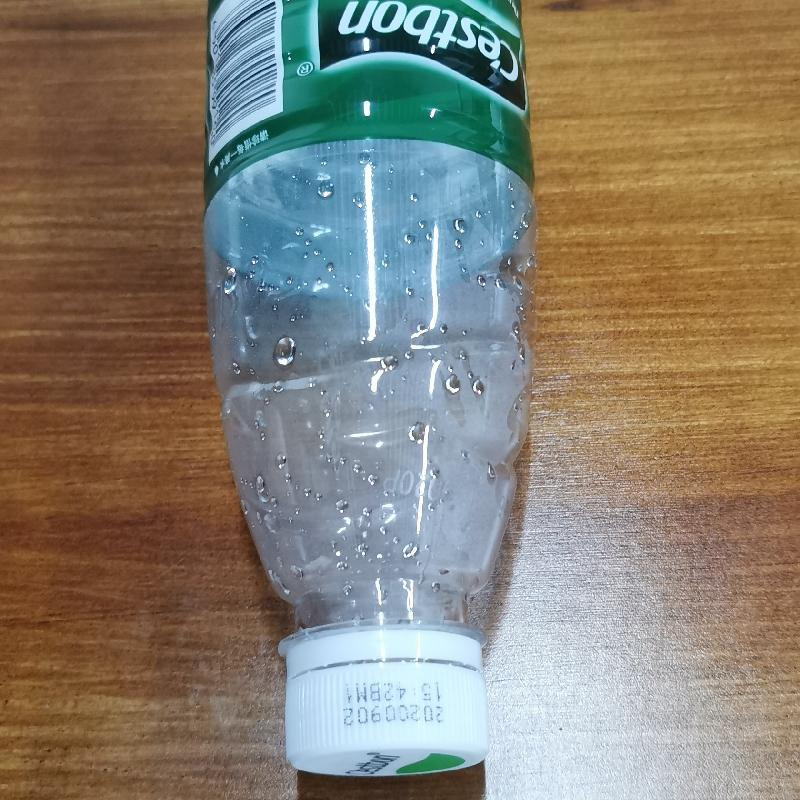bottles: (197, 1, 534, 782)
